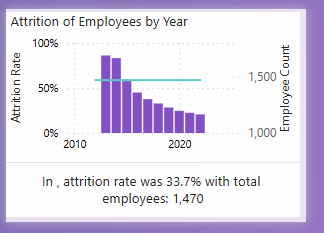

The page's visual inventory and layout, read from the dashboard file:
{"tool":"powerbi","page":{"name":"AttritionTrendTooltip","canvas":[300,213],"ordinal":3},"visuals":[{"type":"lineClusteredColumnComboChart","title":"Attrition of Employees by Year","fields":{"Category":["Calendar.Year"],"Y":["Page1 Measure.AttritionRateNew"],"Y2":["Count(Employee.EmployeeID)"]},"box":[0,3,294,150],"z":0},{"type":"card","fields":{"Values":["Page1 Measure.AttritionYoYNarrative"]},"box":[0,154,294,54],"z":1000}]}

Visuals, with their boxes in screenshot pixels (x1, y1, x2, y2), scaled from the page's 300x213 canvas onto the 324x233 screenshot:
"Attrition of Employees by Year" lineClusteredColumnComboChart: {"x1": 0, "y1": 3, "x2": 318, "y2": 167}
card - Page1 Measure.AttritionYoYNarrative: {"x1": 0, "y1": 168, "x2": 318, "y2": 228}
